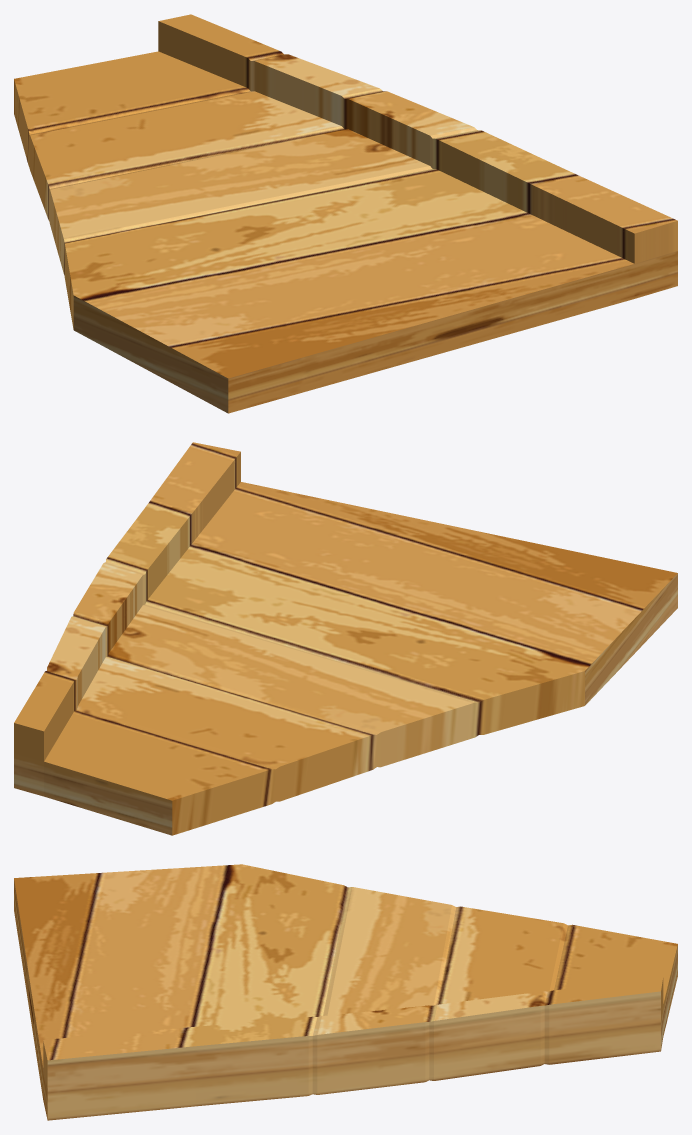
The model's file is SM_TreePlatforms_Box009.FBX.
The picture shows the model from 3 angles, top to bottom: view 1: azimuth 30°, elevation 25°; view 2: azimuth 150°, elevation 25°; view 3: azimuth 270°, elevation 25°; orthographic projection. The views are drawn at different scales.
Visible parts, largest first — view 1: Box008_SingleEnd; view 2: Box008_SingleEnd; view 3: Box008_SingleEnd.
Part boxes in pixels (box(x1,y1,x2,y2)): Box008_SingleEnd: box(14, 14, 677, 413); Box008_SingleEnd: box(14, 442, 677, 835); Box008_SingleEnd: box(14, 864, 677, 1120).
Size of the model in its own units: 9.07 by 1.14 by 11.35.
